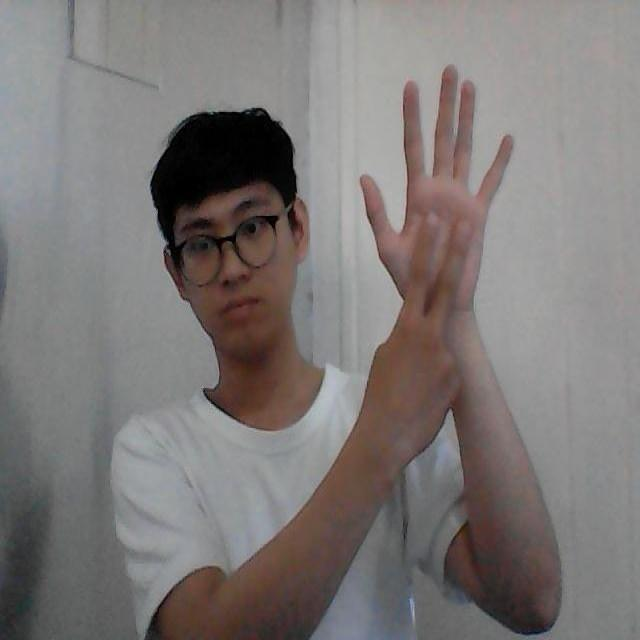N: (356, 52, 520, 324)
